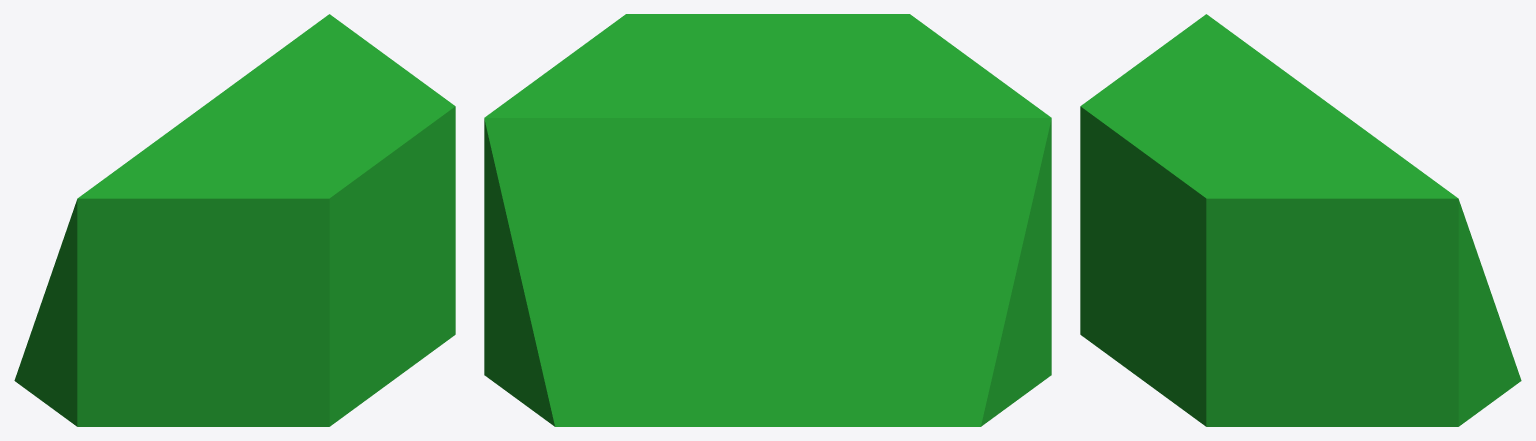
Rendered from cliff-big_corner.glb.
3 renders of one model, left to right at view 1: azimuth 30°, elevation 25°; view 2: azimuth 150°, elevation 25°; view 3: azimuth 270°, elevation 25°, orthographic. The views are drawn at different scales.
Visible parts, largest first — view 1: cliff-big_corner; view 2: cliff-big_corner; view 3: cliff-big_corner.
Boxes of the visible parts, bbox=[...] form: cliff-big_corner: bbox=[14, 14, 455, 426]; cliff-big_corner: bbox=[484, 14, 1051, 426]; cliff-big_corner: bbox=[1080, 14, 1521, 426].
Bounding box in the file's own units: 0.866 × 0.5 × 0.875.
